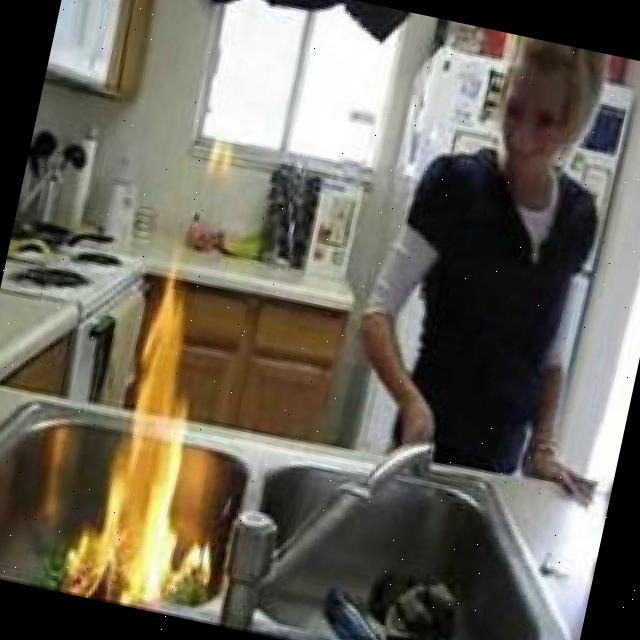fire: (58, 258, 269, 616)
